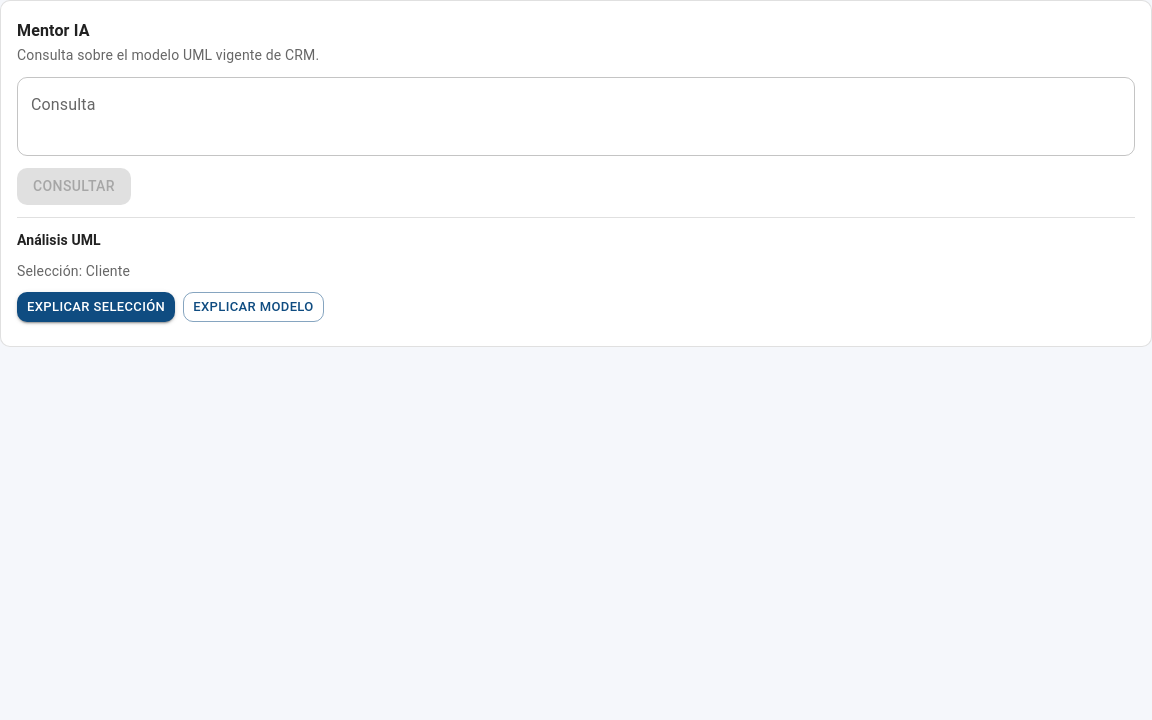
Test case: UmlAnalysisSection: carga y resultado › U-09: muestra la explicación como texto plano y las observaciones deterministas compactas
This screenshot has width=1152, height=720.
Click the button "Explicar selección". click: coordinates (96, 307)
box: [17,292,175,322]
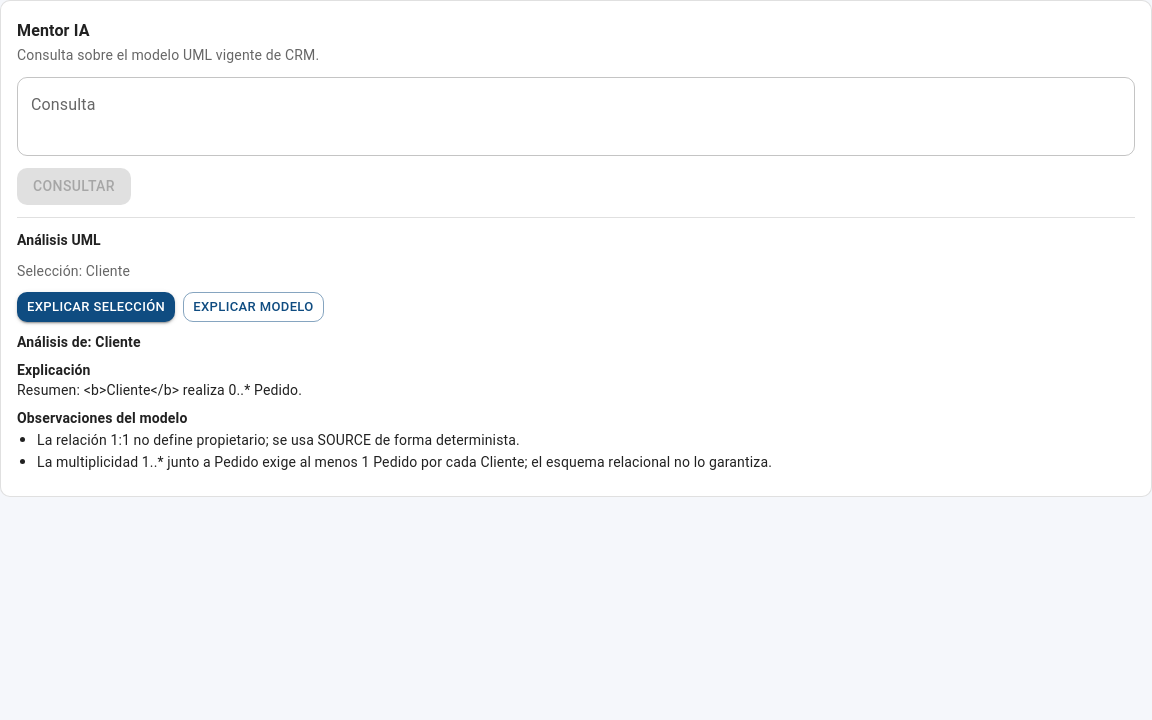
Result: the text "Explicación" is shown at [17,362,91,378]
Result: the text "Resumen: <b>Cliente</b> realiza 0..* Pedido." is shown at [17,382,302,398]
Result: the text "Observaciones del modelo" is shown at [17,410,188,426]
